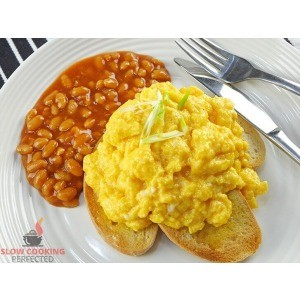egg_brain food: (96, 102, 255, 218)
